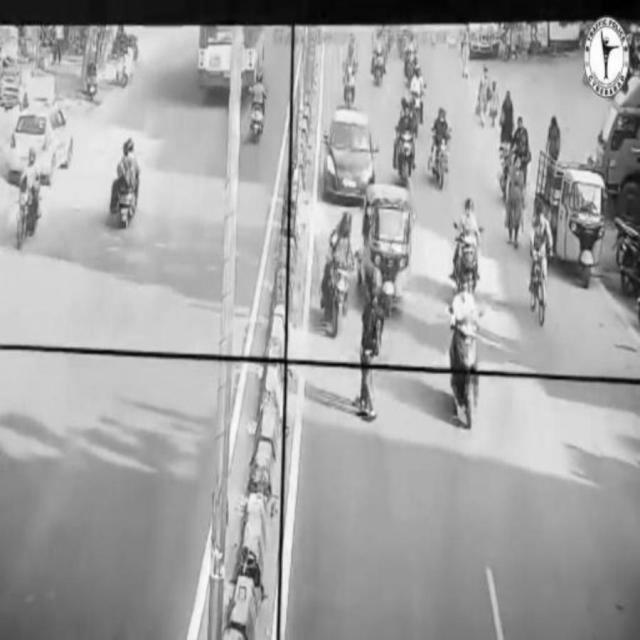person: (360, 284, 384, 422), (508, 153, 524, 255), (477, 64, 493, 128), (501, 87, 515, 159)
vehicle: (540, 152, 608, 286), (364, 179, 414, 307), (445, 285, 483, 429), (320, 106, 377, 198), (9, 106, 76, 184), (327, 206, 353, 334), (454, 200, 482, 301), (529, 213, 553, 319), (114, 142, 141, 230), (17, 146, 41, 242), (396, 100, 416, 184), (434, 102, 450, 193), (252, 72, 268, 140)
